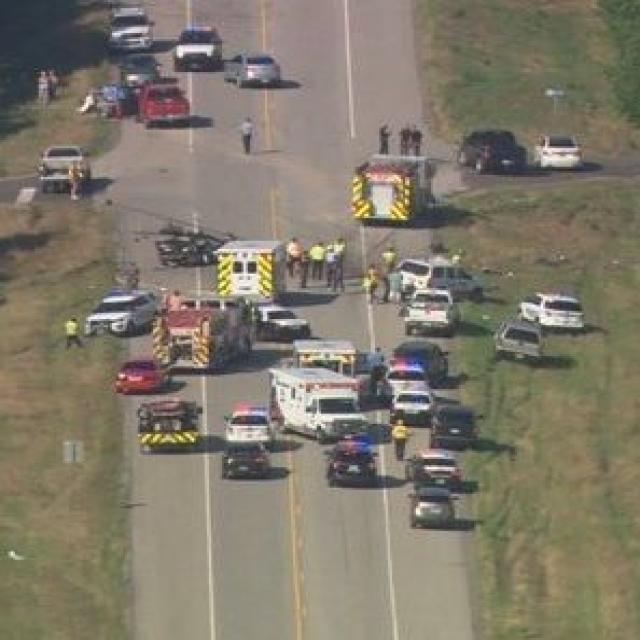traffic_incident: (140, 193, 235, 270), (379, 241, 489, 302)
